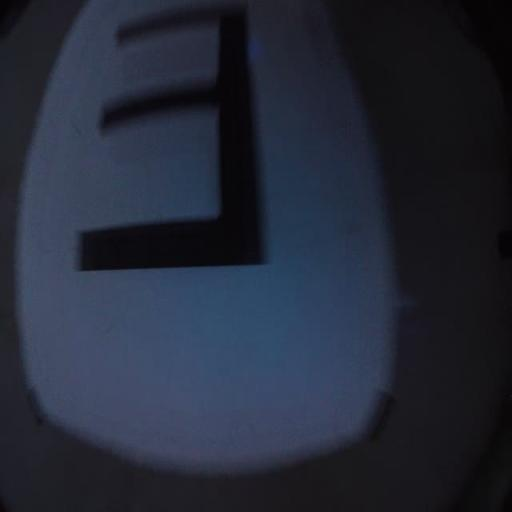E: (81, 7, 262, 271)
